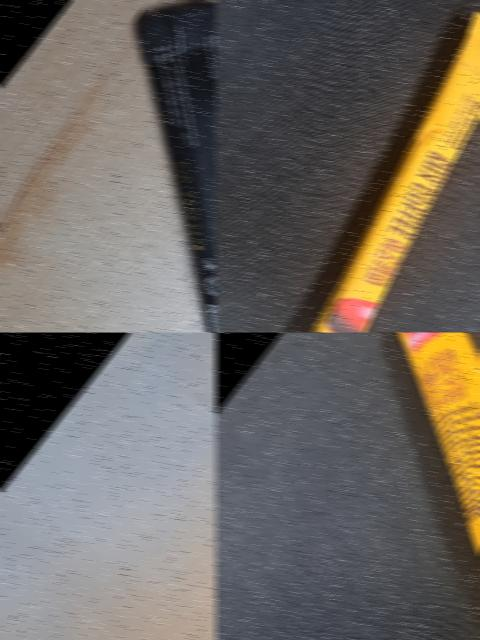espresso_mini: (0, 0, 217, 332)
mix_coffee: (220, 0, 480, 332), (224, 332, 480, 640), (52, 338, 217, 640)
